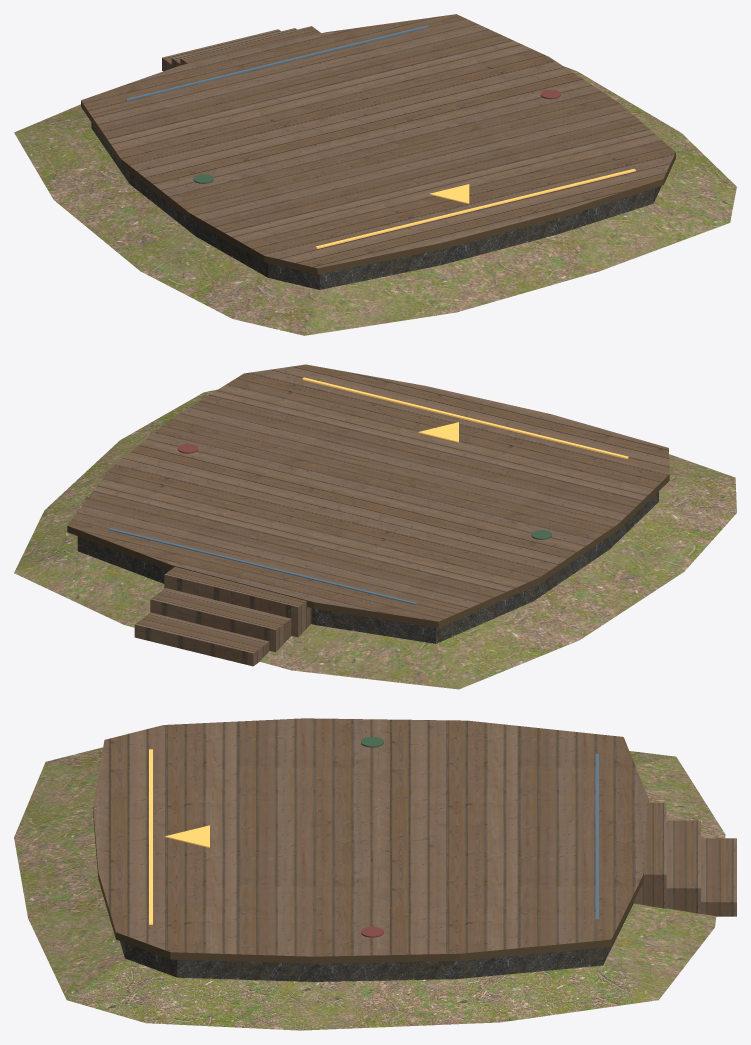
File: forest-stage.glb
3 views of the same model, one above another, from view 1: azimuth 30°, elevation 25°; view 2: azimuth 150°, elevation 25°; view 3: azimuth 270°, elevation 25° (orthographic). The views are drawn at different scales.
Parts seen in each view (by area): view 1: ForestStage_Platform, ForestStage_ContactApron, ForestStage_Plinth, ForestStageStep_upstage-high-step, ForestStageCue_DownstageLine, ForestStageCue_UpstageLine, ForestStageStep_upstage-low-step; view 2: ForestStage_Platform, ForestStage_ContactApron, ForestStage_Plinth, ForestStageStep_upstage-middle-step, ForestStageStep_upstage-low-step, ForestStageStep_upstage-high-step, ForestStageCue_DownstageLine, ForestStageCue_UpstageLine; view 3: ForestStage_Platform, ForestStage_ContactApron, ForestStage_Plinth, ForestStageStep_upstage-middle-step, ForestStageStep_upstage-low-step, ForestStageStep_upstage-high-step, ForestStageCue_DownstageLine, ForestStageCue_UpstageLine, ForestStageCue_DownstageTriangle.
Boxes of the visible parts, x1,y1,x2,y2 form: ForestStage_Platform: (81,14,675,274); ForestStage_ContactApron: (14,66,736,335); ForestStage_Plinth: (91,122,661,289); ForestStageStep_upstage-high-step: (180,26,321,65); ForestStageCue_DownstageLine: (315,169,635,248); ForestStageCue_UpstageLine: (125,25,428,100); ForestStageStep_upstage-low-step: (162,29,280,71); ForestStage_Platform: (67,364,669,628); ForestStage_ContactApron: (14,389,736,689); ForestStage_Plinth: (77,491,658,643); ForestStageStep_upstage-middle-step: (150,588,291,652); ForestStageStep_upstage-low-step: (134,612,269,666); ForestStageStep_upstage-high-step: (164,567,311,637); ForestStageCue_DownstageLine: (302,377,628,458); ForestStageCue_UpstageLine: (108,528,417,604); ForestStage_Platform: (93,718,648,963); ForestStage_ContactApron: (14,747,725,1030); ForestStage_Plinth: (120,902,633,981); ForestStageStep_upstage-middle-step: (666,820,700,913); ForestStageStep_upstage-low-step: (701,838,736,916); ForestStageStep_upstage-high-step: (633,802,666,908); ForestStageCue_DownstageLine: (149,749,152,924); ForestStageCue_UpstageLine: (595,754,598,920); ForestStageCue_DownstageTriangle: (165,825,209,847).
Bounding box in the file's own units: 8.08 × 0.611 × 8.23.
Materials: 6 (6 with a texture image).
